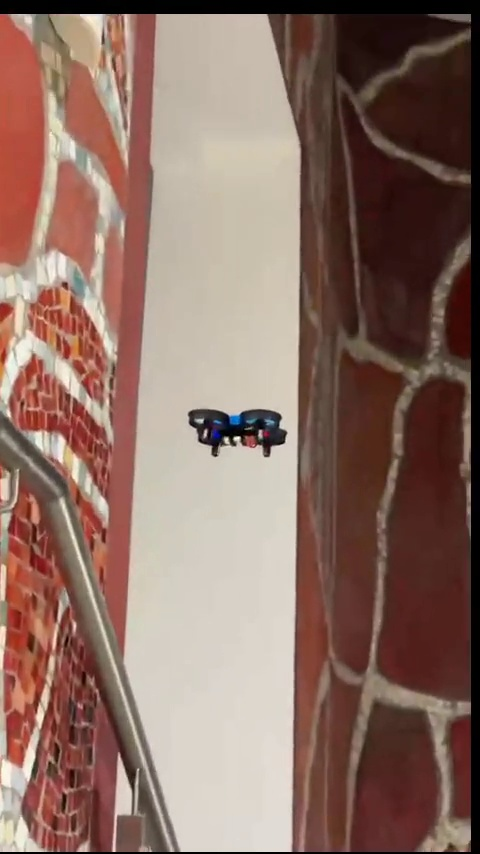drone: (188, 408, 290, 457)
